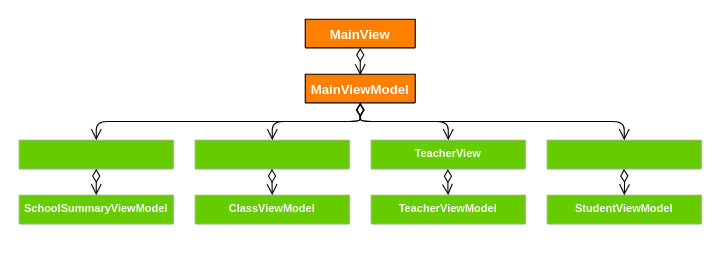
The diagram is 721 pixels wide and 257 high, and some of its shapes have lost their labels. The shapes that lost their labels are listed below. From the top down, each one's box as (x1, y1, x2, y2) in pixels, then its label:
(18, 139, 173, 169): SchoolSummaryView
(194, 139, 349, 169): ClassView
(546, 139, 701, 169): StudentView
